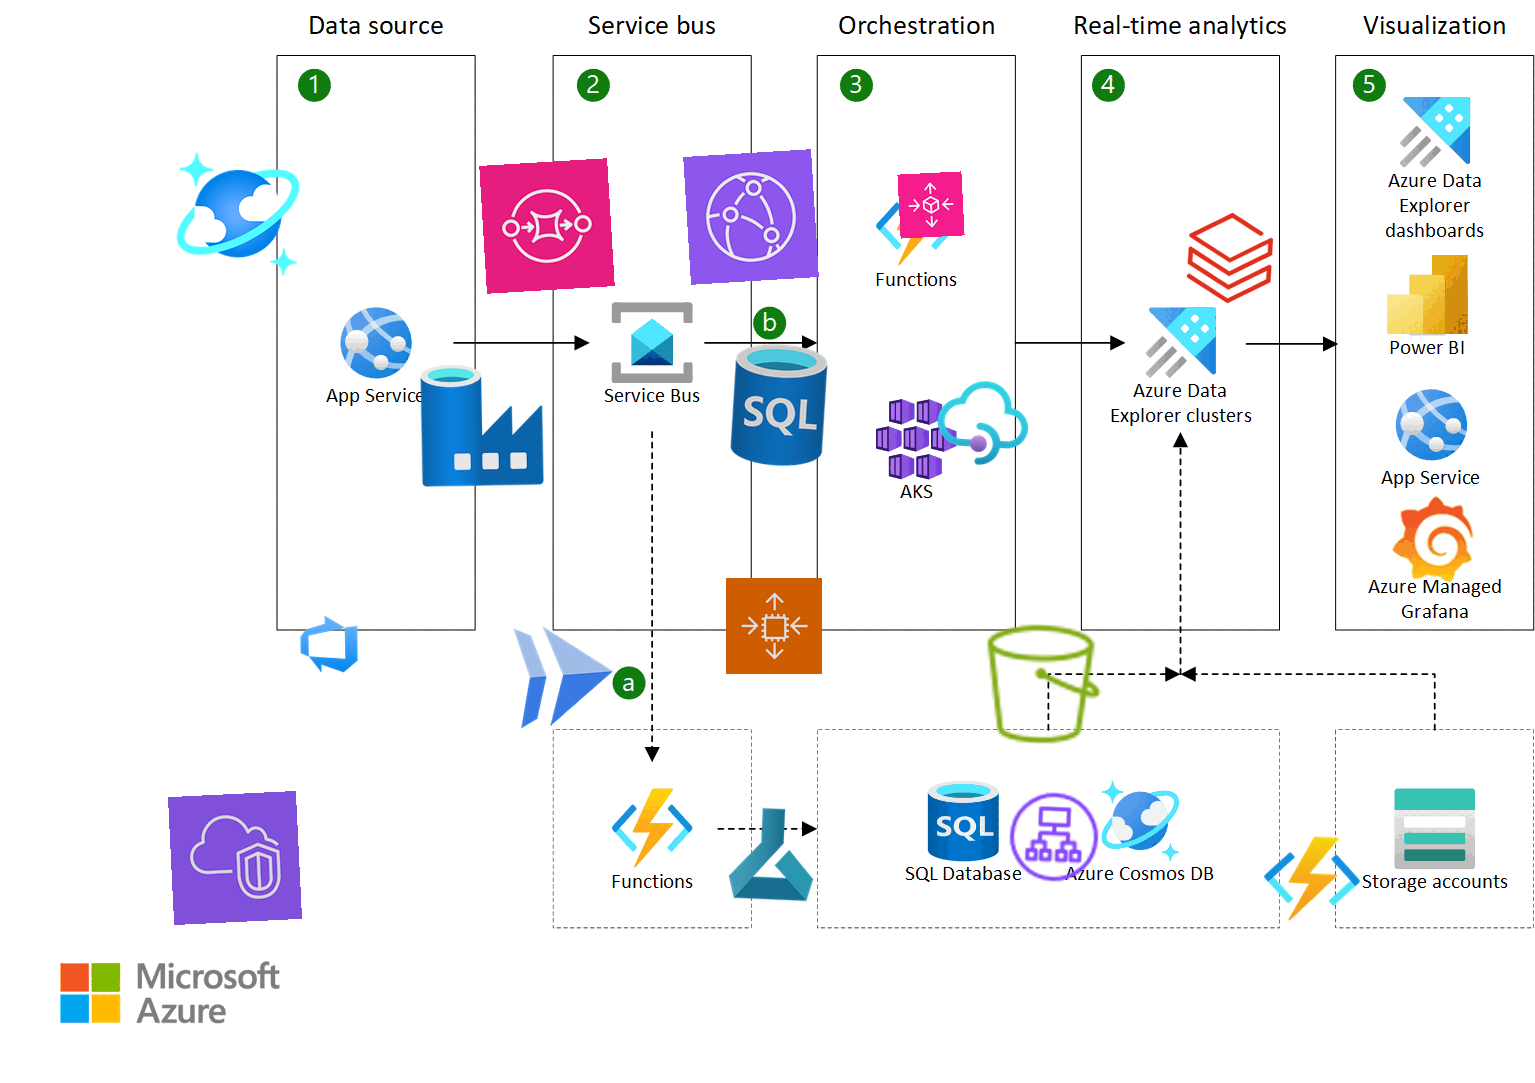aws_amazon_cloudfront: (683, 149, 819, 285)
aws_amazon_ec2_auto_scaling: (725, 577, 823, 675)
aws_amazon_simple_queue_service: (479, 158, 615, 294)
aws_amazon_virtual_private_cloud: (168, 790, 303, 926)
aws_auto_scaling: (898, 171, 966, 239)
aws_elastic_load_balancing_application_load_balancer: (1004, 786, 1104, 887)
aws_simple_storage_service_s3_standard: (977, 618, 1108, 750)
azure_api_management_services: (932, 372, 1033, 474)
azure_cosmos_db: (172, 148, 303, 280)
azure_data_factories: (416, 359, 548, 491)
azure_databricks: (1179, 207, 1281, 309)
azure_devops: (296, 611, 362, 677)
azure_function_apps: (1261, 827, 1363, 929)
azure_machine_learning: (721, 803, 823, 905)
azure_sql_database: (711, 338, 847, 474)
gcp_cloud_run: (494, 606, 632, 744)
